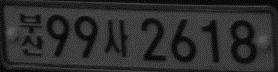1: (199, 19, 226, 63)
2: (141, 18, 167, 61)
6: (170, 18, 197, 63)
8: (229, 18, 258, 64)
9: (73, 14, 99, 58), (45, 13, 70, 57)
부산_V: (18, 12, 44, 56)
사: (103, 18, 129, 56)
